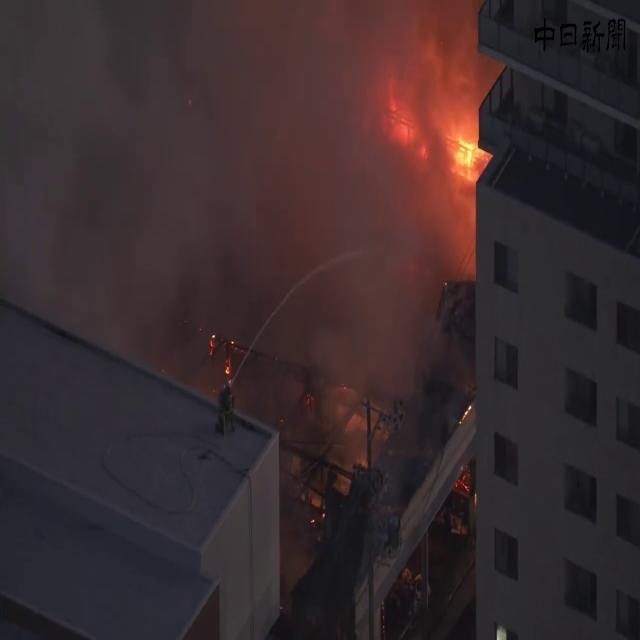Fire: (448, 112, 488, 186)
Smoke: (0, 0, 477, 443)
